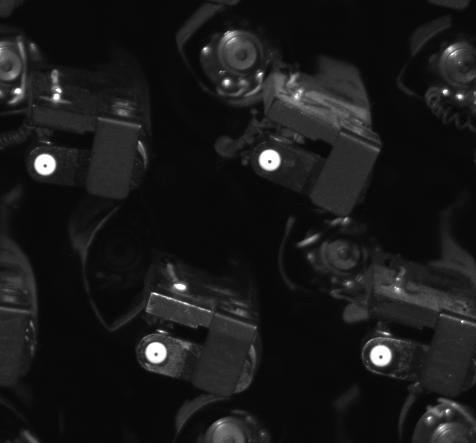fiber: (252, 144, 287, 175), (141, 335, 171, 370), (28, 149, 60, 181), (364, 340, 396, 370)
